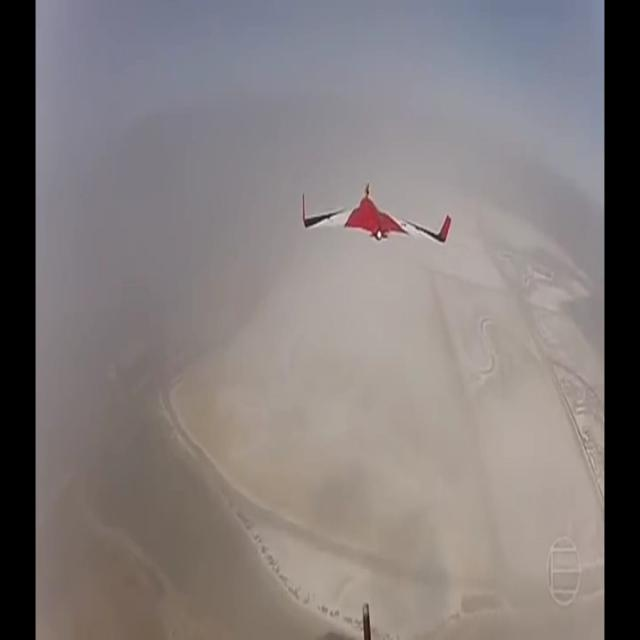iha: (301, 213, 452, 215)
